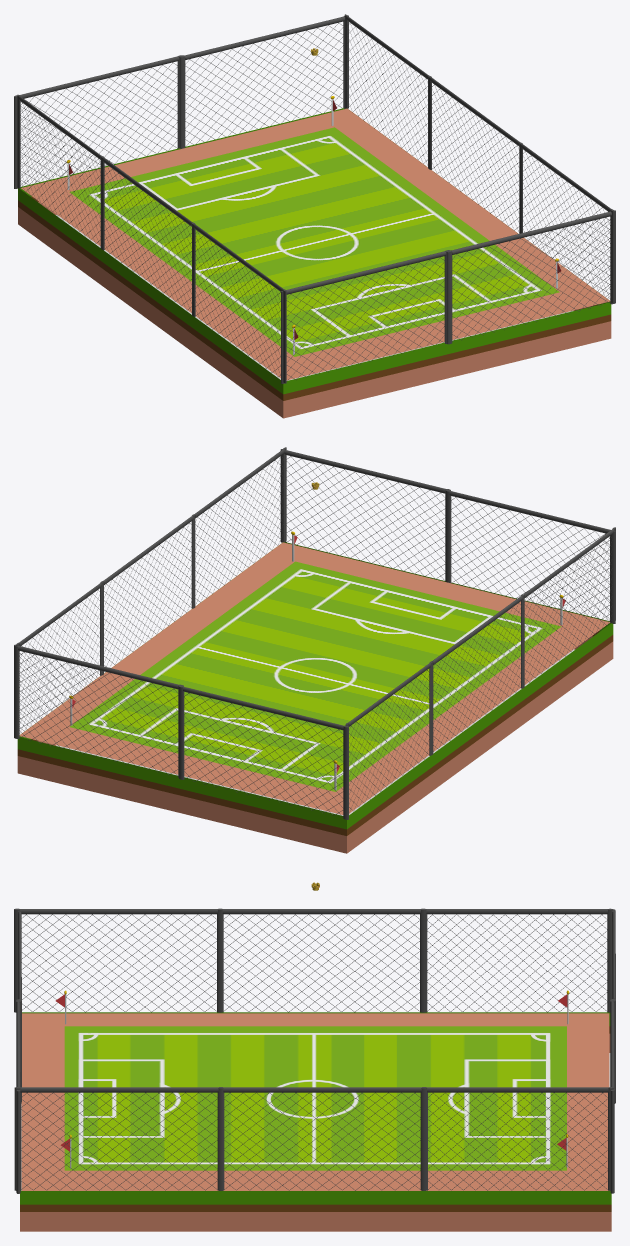
The model's file is field2_1.glb.
3 renders of one model, top to bottom at view 1: azimuth 30°, elevation 25°; view 2: azimuth 150°, elevation 25°; view 3: azimuth 270°, elevation 25°, orthographic. The views are drawn at different scales.
Visible parts, largest first — view 1: Cube, Cube_football_field_0.001, Null_2_1__0.003, Null_2_1__0.002, Null_2_1__0.004, Null_2_1__0.005, Null_1_1, Null_1_1__0.001, Null_0_1__0.001, Null_0_1, Null_2_1__0.001, Null_2_1; view 2: Cube, Cube_football_field_0.001, Null_2_1__0.005, Null_2_1__0.004, Null_2_1__0.002, Null_2_1__0.003, Null_1_1__0.001, Null_1_1, Null_0_1, Null_2_1__0.001, Null_0_1__0.001, Null_2_1; view 3: Cube, Cube_football_field_0.001, Null_1_1, Null_1_1__0.001, Null_0_1, Null_0_1__0.001, Null_2_1__0.001, Null_2_1, Null_2_1__0.002, Null_2_1__0.003, Null_2_1__0.005, Null_2_1__0.004.
Boxes of the visible parts, x1,y1,x2,y2 form: Cube: (18, 108, 611, 418); Cube_football_field_0.001: (21, 108, 610, 380); Null_2_1__0.003: (446, 210, 615, 344); Null_2_1__0.002: (179, 15, 348, 148); Null_2_1__0.004: (281, 250, 449, 383); Null_2_1__0.005: (14, 55, 182, 188); Null_1_1: (428, 75, 522, 233); Null_1_1__0.001: (101, 156, 194, 316); Null_0_1__0.001: (192, 222, 286, 383); Null_0_1: (521, 143, 614, 303); Null_2_1__0.001: (17, 94, 103, 248); Null_2_1: (344, 14, 429, 167); Cube: (17, 542, 613, 853); Cube_football_field_0.001: (19, 542, 610, 814); Null_2_1__0.005: (179, 685, 348, 819); Null_2_1__0.004: (445, 490, 615, 623); Null_2_1__0.002: (14, 644, 183, 777); Null_2_1__0.003: (280, 449, 450, 580); Null_1_1__0.001: (429, 594, 524, 754); Null_1_1: (100, 514, 195, 674); Null_0_1: (192, 447, 286, 603); Null_2_1__0.001: (345, 662, 432, 812); Null_0_1__0.001: (521, 527, 615, 683); Null_2_1: (16, 581, 103, 732); Cube: (20, 1012, 611, 1231); Cube_football_field_0.001: (21, 1013, 609, 1190); Null_1_1: (218, 1087, 426, 1190); Null_1_1__0.001: (218, 908, 426, 1012); Null_0_1: (14, 1087, 222, 1190); Null_0_1__0.001: (14, 908, 222, 1012); Null_2_1__0.001: (424, 908, 613, 1012); Null_2_1: (422, 1087, 613, 1190); Null_2_1__0.002: (610, 999, 614, 1193); Null_2_1__0.003: (16, 999, 20, 1193); Null_2_1__0.005: (612, 909, 615, 1103); Null_2_1__0.004: (18, 911, 21, 1103).
Size of the model in its own units: 350 by 231 by 488.
12 materials, 3 textured.
